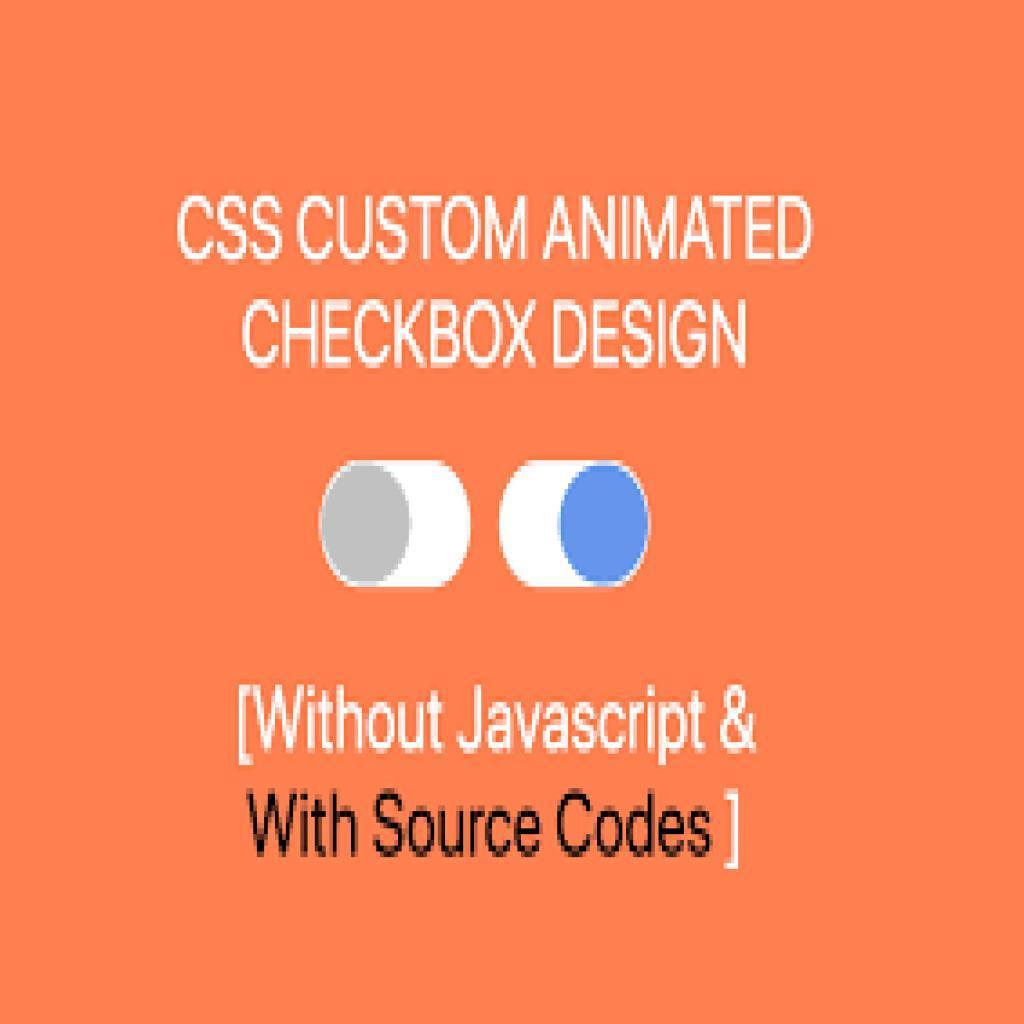switch: (498, 462, 652, 588), (323, 463, 472, 591)
